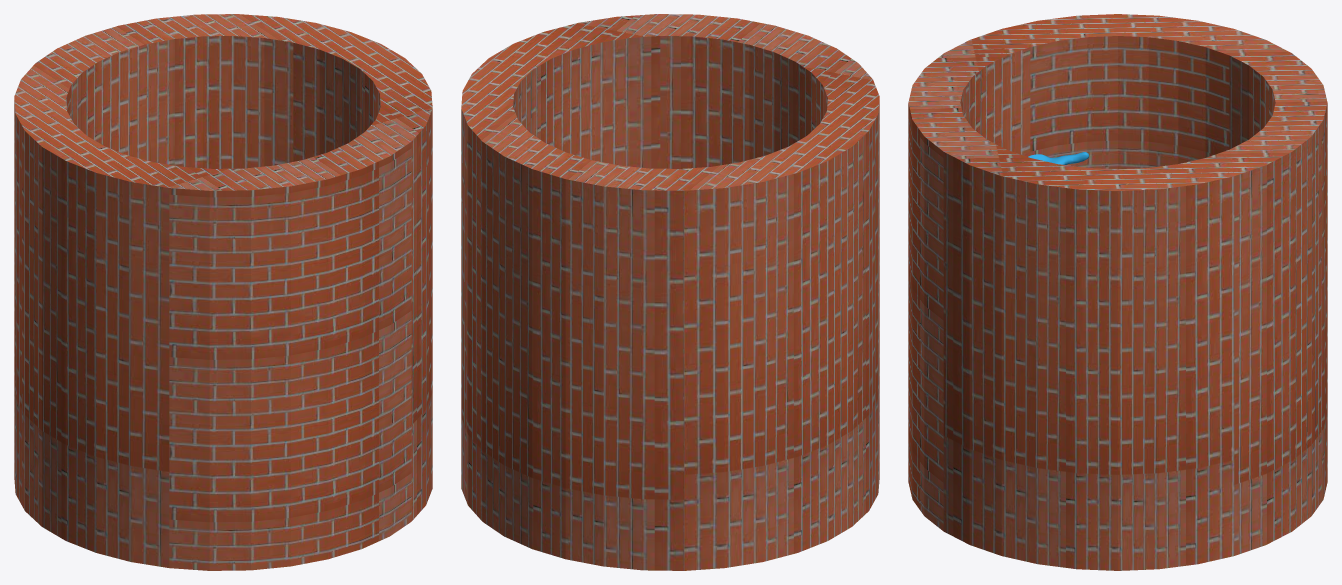
The model's file is waterField.fbx.
3 renders of one model, left to right at view 1: azimuth 30°, elevation 25°; view 2: azimuth 150°, elevation 25°; view 3: azimuth 270°, elevation 25°, orthographic.
Parts seen in each view (by area): view 1: 圓柱體; view 2: 圓柱體; view 3: 圓柱體.
Part boxes in pixels (x1=…): 圓柱體: x1=14, y1=14, x2=432, y2=570; 圓柱體: x1=461, y1=14, x2=879, y2=570; 圓柱體: x1=908, y1=14, x2=1327, y2=570.
Bounding box in the file's own units: 200 × 200 × 200.
2 materials, 1 textured.
